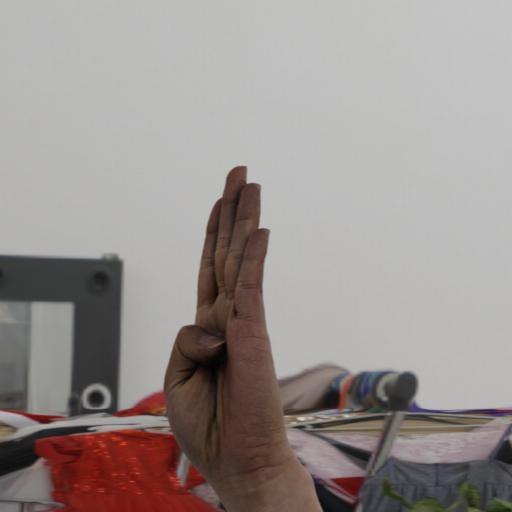B: (151, 156, 332, 512)
